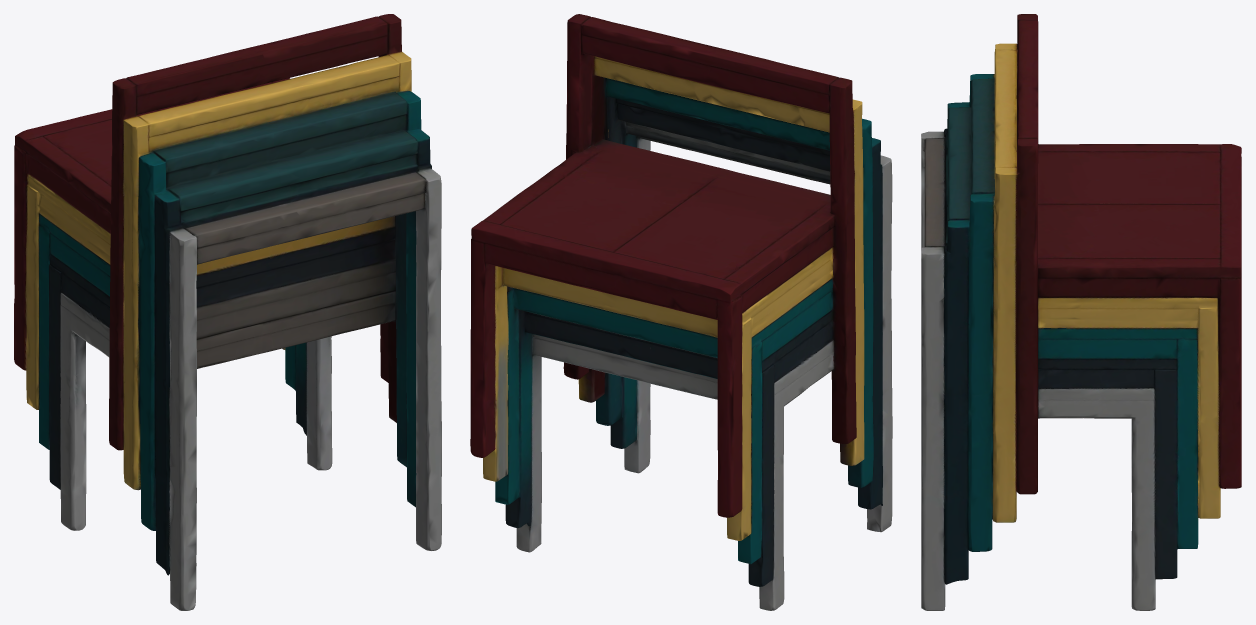
3 views of the same model, side by side, from view 1: azimuth 30°, elevation 25°; view 2: azimuth 150°, elevation 25°; view 3: azimuth 270°, elevation 25° (orthographic). The views are drawn at different scales.
Visible parts, largest first — view 1: tripo_node_6365e2af-3d42-49f9-a07b-757a02f0ad80; view 2: tripo_node_6365e2af-3d42-49f9-a07b-757a02f0ad80; view 3: tripo_node_6365e2af-3d42-49f9-a07b-757a02f0ad80.
Boxes of the visible parts, bbox=[...] form: tripo_node_6365e2af-3d42-49f9-a07b-757a02f0ad80: bbox=[14, 14, 441, 610]; tripo_node_6365e2af-3d42-49f9-a07b-757a02f0ad80: bbox=[470, 14, 892, 610]; tripo_node_6365e2af-3d42-49f9-a07b-757a02f0ad80: bbox=[921, 14, 1241, 610].
Bounding box in the file's own units: 0.45 × 0.73 × 0.45.
Materials: 1 (1 with a texture image).
